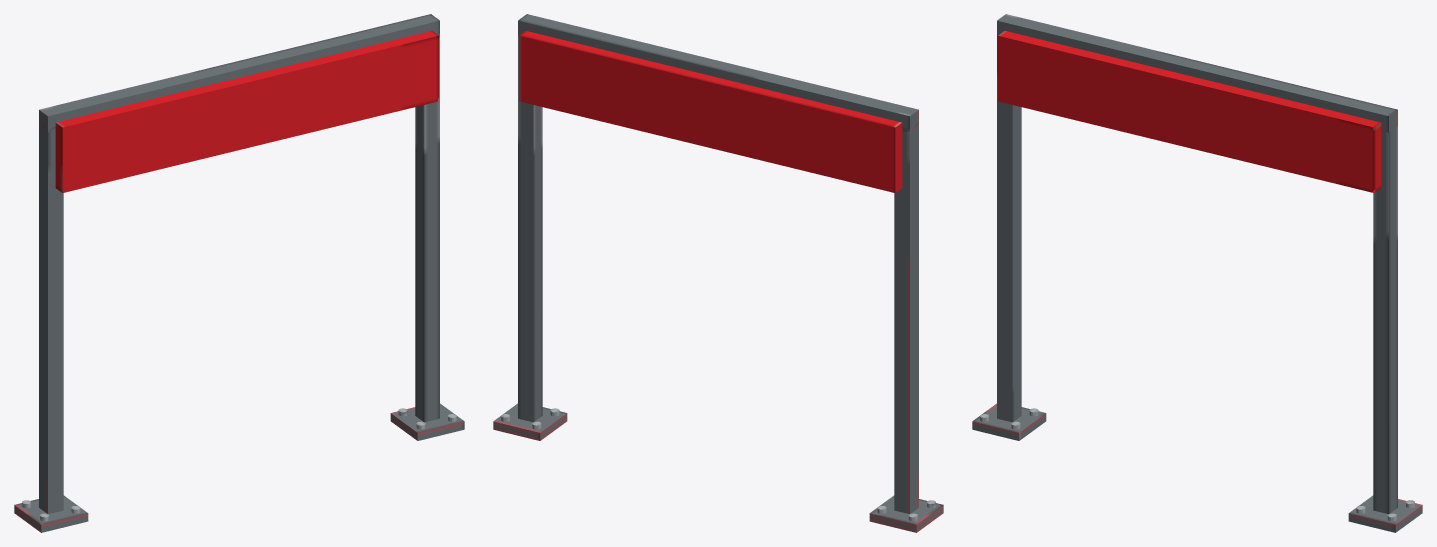
The model's file is nl_station_sign_standing_rnet.obj.
3 renders of one model, left to right at view 1: azimuth 30°, elevation 25°; view 2: azimuth 150°, elevation 25°; view 3: azimuth 330°, elevation 25°, orthographic.
Visible parts, largest first — view 1: sign_back, pole_right, pole_left, pole_top, foot_right, foot_left; view 2: sign_front, pole_right, pole_left, pole_top, foot_right, foot_left; view 3: sign_back, pole_left, pole_right, pole_top, foot_left, foot_right.
Part boxes in pixels (x1,y1,x2,y2): sign_back: [55, 31, 438, 192]; pole_right: [39, 122, 63, 514]; pole_left: [415, 33, 439, 422]; pole_top: [39, 14, 439, 132]; foot_right: [14, 495, 88, 532]; foot_left: [390, 403, 464, 440]; sign_front: [519, 31, 902, 192]; pole_right: [894, 122, 918, 514]; pole_left: [518, 33, 542, 422]; pole_top: [518, 14, 918, 132]; foot_right: [869, 495, 943, 532]; foot_left: [493, 403, 567, 440]; sign_back: [998, 31, 1381, 192]; pole_left: [1373, 124, 1397, 514]; pole_right: [997, 34, 1021, 422]; pole_top: [997, 14, 1397, 132]; foot_left: [1348, 495, 1422, 532]; foot_right: [972, 403, 1046, 440].
Bounding box in the file's own units: 3.38 × 3.09 × 0.375.
Materials: 1 (1 with a texture image).
